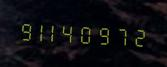four: (65, 19, 80, 46)
nine: (17, 16, 32, 44), (97, 20, 112, 48)
one: (33, 17, 48, 45), (49, 18, 64, 45)
seven: (113, 21, 128, 49)
two: (129, 22, 144, 50)
zero: (81, 19, 96, 47)
